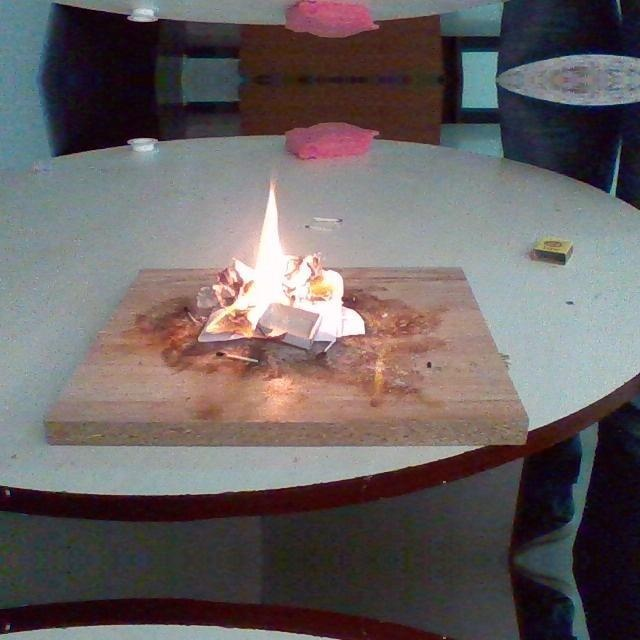fire: (203, 147, 368, 388)
